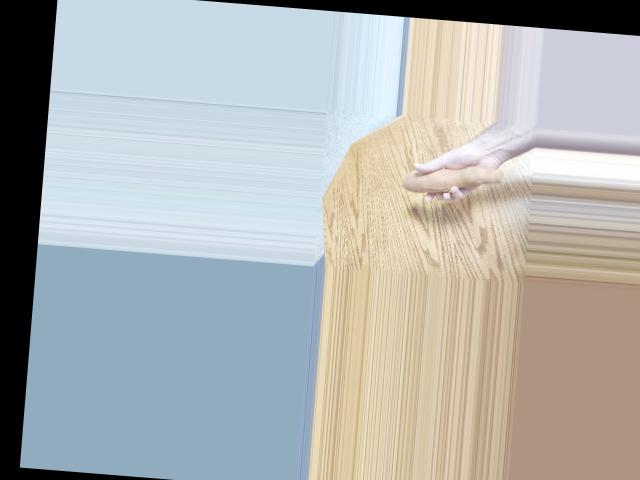sweet_potato: (399, 151, 514, 201)
